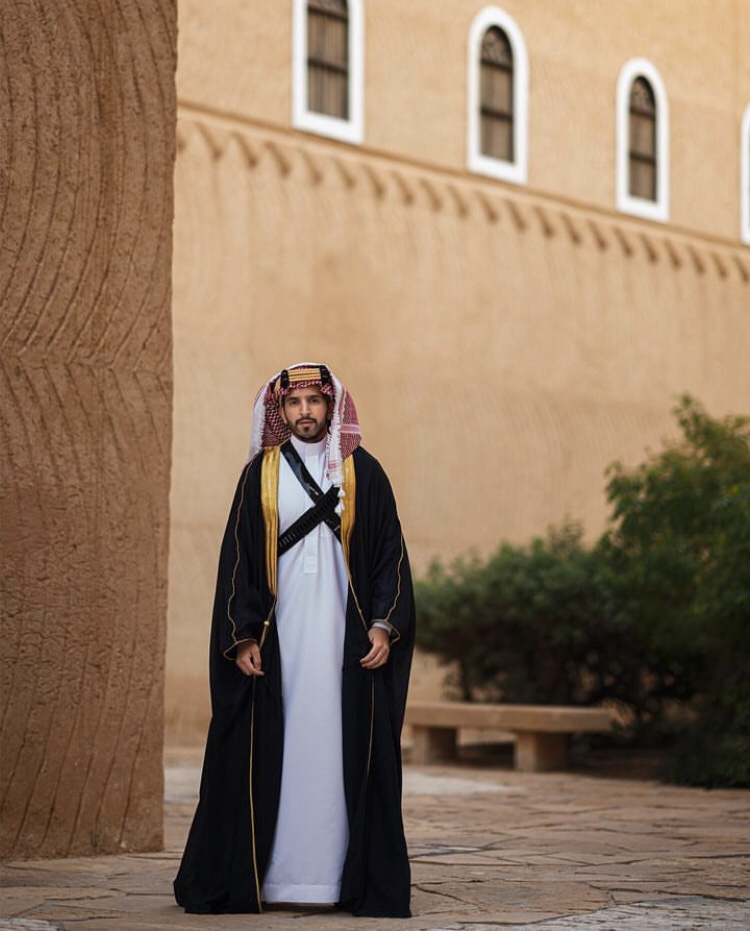Saudi_Founding_Day: (169, 357, 432, 920)
